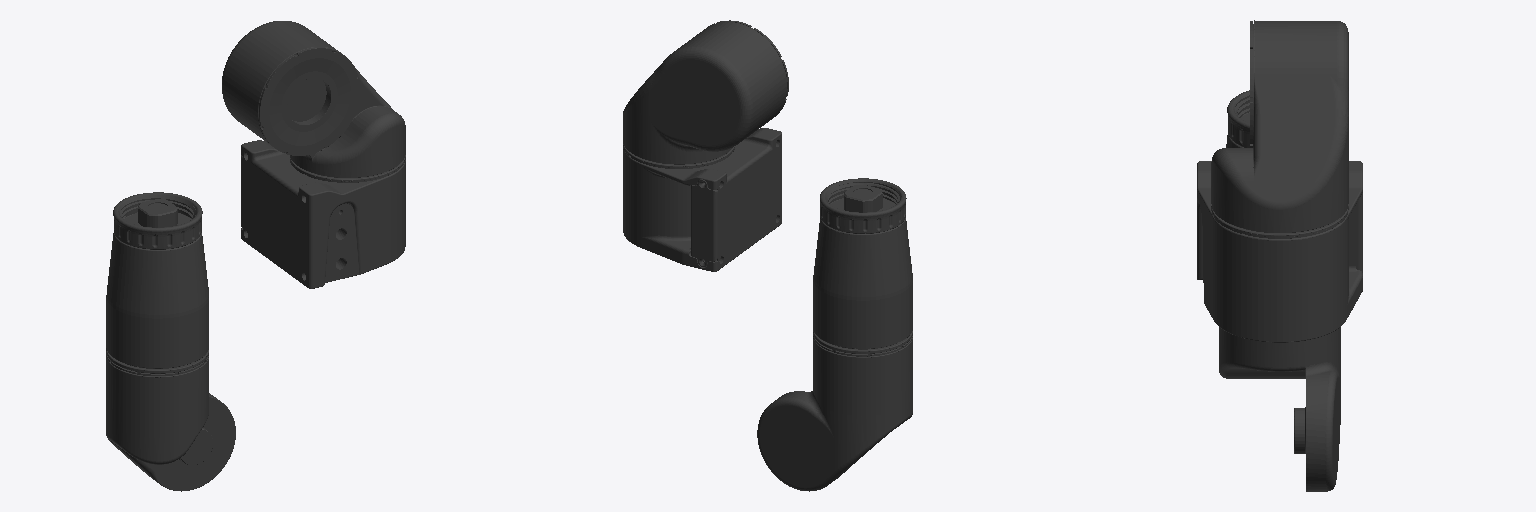
robot.urdf — bravo5:
<robot name="bravo5">
    <link name="base_link"/>
    <material name="bravo_black">
    <color rgba="0.3 0.3 0.3 1"/>
    </material>
    <joint name="bravo_joint" type="fixed">
        <origin rpy="0 0 0" xyz="0 0 0"/>
        <parent link="base_link"/>
        <child link="bravo_base_link"/>
    </joint>
    <link name="bravo_base_link"/>


    <link name="bravo_rs2_266_link">
        <visual>
            <geometry>
                <mesh filename="package://bravo_description/meshes/RS2-266.stl"/>
            </geometry>
            <material name="bravo_black"/>
        </visual>
    </link>

    <joint name="bravo_rs2_266_joint" type="fixed">
        <parent link="bravo_base_link"/>
        <child link="bravo_rs2_266_link"/>
        <origin rpy="0 0 0"/>
    </joint>

    <link name="bravo_rs2_217_link">
        <visual>
            <geometry>
                <mesh filename="package://bravo_description/meshes/RS2-217.stl"/>
            </geometry>
            <material name="bravo_black"/>
        </visual>
    </link>

    <joint name="bravo_axis_e" type="revolute">
        <parent link="bravo_rs2_266_link"/>
        <child link="bravo_rs2_217_link"/>
        <origin rpy="0 0 0" xyz="0.0665 0 0.078"/>
        <axis xyz="0 0 -1"/>
        <limit effort="9.0" lower="0.0" upper="6.3" velocity="0.5"/>
    </joint>

    <link name="bravo_RS2-1013_base_link">
        <visual>
            <geometry>
                <mesh filename="package://bravo_description/meshes/RS2-1013_base.stl"/>
            </geometry>
            <origin rpy="0 0 0" xyz = "-0.046 0 -0.065"/>
            <material name="bravo_black"/>
        </visual>
    </link>

    <joint name="bravo_axis_d" type="revolute">
        <parent link="bravo_rs2_217_link"/>
        <child link="bravo_RS2-1013_base_link"/>
        <origin rpy="0 0 0" xyz="-0.046 0 0.0674"/>
        <axis xyz="0 1 0"/>
        <limit effort="9.0" lower="0.0" upper="3.5" velocity="0.5"/>
    </joint>

    <link name="bravo_rs2_268_link">
        <visual>
            <geometry>
                <mesh filename="package://bravo_description/meshes/RS2-268.stl"/>
            </geometry>
            <material name="bravo_black"/>
        </visual>
    </link>

    <link name="bravo_RS2-1030_base_link">
        <visual>
            <geometry>
                <mesh filename="package://bravo_description/meshes/RS2-1030.stl"/>
            </geometry>
            <origin rpy="0 3.1415 0" xyz = "-0.046 0 -0.05"/>
            <material name="bravo_black"/>
        </visual>
    </link>

    <link name="bravo_RS2-1026_base_link">
        <visual>
            <geometry>
                <mesh filename="package://bravo_description/meshes/RS2-1026_0_base.stl"/>
            </geometry>
            <origin rpy="0 3.1415 0" xyz = "-0.046 0 -0.2350"/>
            <material name="bravo_black"/>
        </visual>
    </link>

    <joint name="bravo_rs2_313_joint" type="fixed">
        <parent link="bravo_RS2-1013_base_link"/>
        <child link="bravo_RS2-1030_base_link"/>
        <origin rpy="0 0 0"/>
    </joint>

    <joint name="bravo_rs2_326_joint" type="fixed">
        <parent link="bravo_RS2-1030_base_link"/>
        <child link="bravo_RS2-1026_base_link"/>
        <origin rpy="0 0 0" xyz ="0 0 0"/>
    </joint>

    <joint name="bravo_axis_c" type="revolute">
        <parent link="bravo_RS2-1013_base_link"/>
        <child link="bravo_rs2_268_link"/>
        <origin rpy="0 0 3.1415" xyz="-0.0868 0 -0.29355"/>
        <axis xyz="0 1 0"/>
        <limit effort="9.0" lower="0.0" upper="3.5" velocity="0.5"/>
    </joint>

    <link name="bravo_rs2_180_link">
        <visual>
            <geometry>
                <mesh filename="package://bravo_description/meshes/RS2-180.stl"/>
            </geometry>
            <material name="bravo_black"/>
        </visual>
    </link>


    <joint name="bravo_axis_b" type="revolute">
        <parent link="bravo_rs2_268_link"/>
        <child link="bravo_rs2_180_link"/>
        <origin rpy="0 0 0" xyz="0.0408 0 0.09645"/>
        <axis xyz="0 0 -1"/>
        <limit effort="9.0" lower="0.0" upper="6.3" velocity="0.5"/>
    </joint>

    <joint name="bravo_jaws_joint" type="fixed">
    <origin rpy="0 0 0" xyz=" 0 0 0.124"/>
    <parent link="bravo_rs2_180_link"/>
    <child link="bravo_jaws_base_link"/>
  </joint>

    <material name="bravo_jaws_black">
    <color rgba="0.3 0.3 0.3 1"/>
  </material>
    <link name="bravo_jaws_base_link">
        <visual>
            <geometry>
                <mesh filename="package://bravo_description/meshes/end_effectors/RS2-257.stl"/>
            </geometry>
            <material name="bravo_jaws_black"/>
            </visual>
    </link>
    <link name="bravo_push_rod"/>
    <joint name="bravo_axis_a" type="prismatic">
        <origin rpy="0 0 0" xyz="0 0 0.009"/>
        <parent link="bravo_jaws_base_link"/>
        <child link="bravo_push_rod"/>
        <axis xyz="0 0 1"/>
        <limit effort="10" lower="0" upper="0.035" velocity="10"/>
    </joint>
    <link name="bravo_rs2_255_link">
        <visual>
            <geometry>
                <mesh filename="package://bravo_description/meshes/end_effectors/RS2-255.stl"/>
            </geometry>
        <material name="bravo_jaws_black"/>
        <origin rpy="0 0 0" xyz="0 0 0"/>
        </visual>
    </link>
    <joint name="bravo_rs2_255_joint" type="revolute">
        <origin rpy="0 0 0" xyz="0 0.033 0.0097"/>
        <parent link="bravo_jaws_base_link"/>
        <child link="bravo_rs2_255_link"/>
        <axis xyz="-1 0 0"/>
        <limit effort="10" lower="0" upper="0.5" velocity="10"/>
        <mimic joint="bravo_axis_a" multiplier="15" offset="0"/>
    </joint>
    <link name="bravo_rs2_255_jaw_inside_link">
        <visual>
            <geometry>
                <mesh filename="package://bravo_description/meshes/end_effectors/RS2-255-Jaw-Inside.stl"/>
            </geometry>
            <material name="bravo_jaws_black"/>
            <origin rpy="0 0 0" xyz="0 0 0"/>
        </visual>
    </link>
    <joint name="bravo_rs2_255_jaw_inside_joint" type="revolute">
        <origin rpy="0 0 0" xyz="0 -0.033 0.0097"/>
        <parent link="bravo_jaws_base_link"/>
        <child link="bravo_rs2_255_jaw_inside_link"/>
        <axis xyz="1 0 0"/>
        <limit effort="10" lower="0" upper="0.5" velocity="10"/>
        <mimic joint="bravo_axis_a" multiplier="15" offset="0"/>
    </joint>
</robot>

--- What the picture shows (computed from the rendered views, not written in the file) ---
The picture shows the robot from 3 angles, left to right: view 1: azimuth 30°, elevation 25°; view 2: azimuth 150°, elevation 25°; view 3: azimuth 270°, elevation 25°; orthographic projection.
Robot: bravo5 — 13 links, 12 joints (6 revolute, 1 prismatic, 5 fixed); root link base_link; default pose: every joint at zero.
Links seen in each view (by area): view 1: bravo_rs2_217_link, bravo_rs2_266_link, bravo_rs2_180_link, bravo_rs2_268_link; view 2: bravo_rs2_217_link, bravo_rs2_266_link, bravo_rs2_180_link, bravo_rs2_268_link; view 3: bravo_rs2_217_link, bravo_rs2_266_link, bravo_rs2_268_link, bravo_rs2_180_link.
Boxes of the visible links, bbox=[...] form: bravo_rs2_217_link: bbox=[222, 21, 405, 181]; bravo_rs2_266_link: bbox=[241, 140, 405, 288]; bravo_rs2_180_link: bbox=[106, 192, 208, 373]; bravo_rs2_268_link: bbox=[106, 353, 235, 491]; bravo_rs2_217_link: bbox=[623, 20, 788, 167]; bravo_rs2_266_link: bbox=[623, 128, 781, 271]; bravo_rs2_180_link: bbox=[813, 178, 912, 353]; bravo_rs2_268_link: bbox=[757, 335, 912, 491]; bravo_rs2_217_link: bbox=[1211, 20, 1348, 236]; bravo_rs2_266_link: bbox=[1197, 161, 1362, 342]; bravo_rs2_268_link: bbox=[1219, 327, 1340, 491]; bravo_rs2_180_link: bbox=[1226, 90, 1249, 147].
Size in the robot's own frame: 0.2604 by 0.1112 by 0.3803 metres.
4 mesh visuals loaded from 10 distinct referenced files (4 binary STL); not drawn: 6 (reference not matched to a file when rendering).